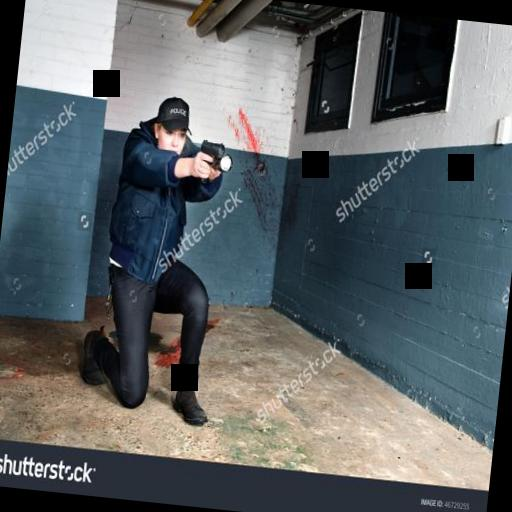Handgun: (194, 136, 226, 185)
